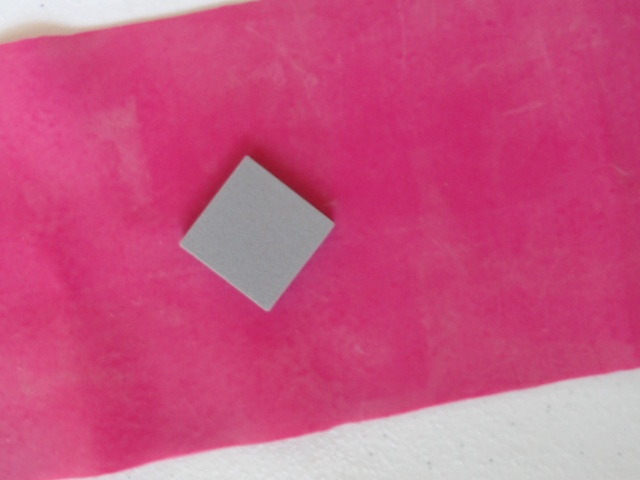Defective: (174, 152, 344, 319)
